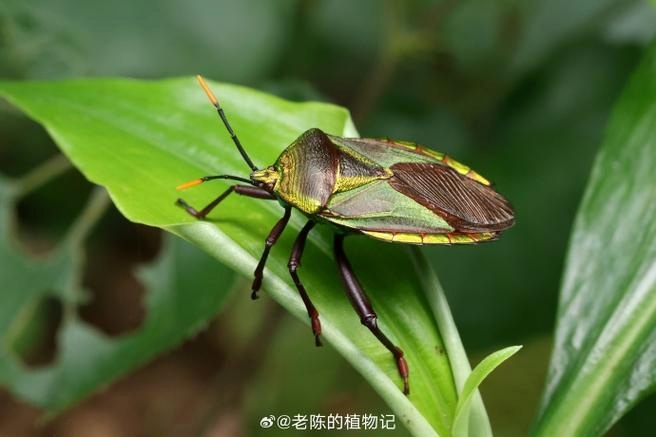Stink_Bug: (244, 135, 498, 278)
